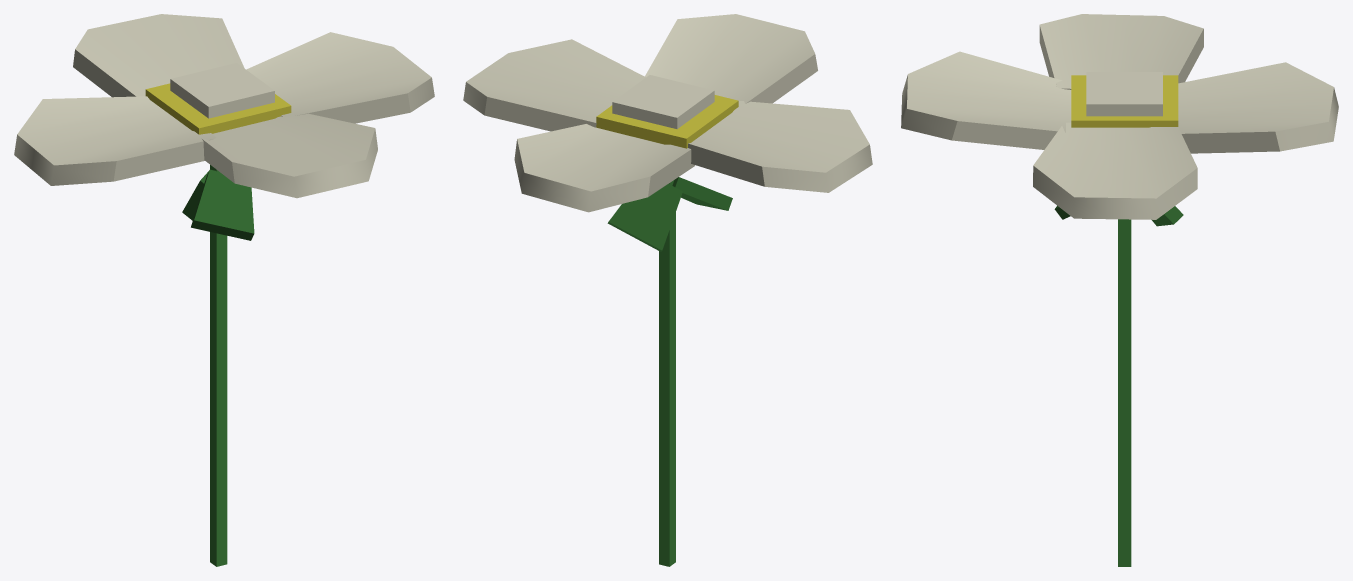
The model's file is Flower01.fbx.
3 views of the same model, side by side, from view 1: azimuth 30°, elevation 25°; view 2: azimuth 150°, elevation 25°; view 3: azimuth 270°, elevation 25° (orthographic). The views are drawn at different scales.
Visible parts, largest first — view 1: WhiteFlower; view 2: WhiteFlower; view 3: WhiteFlower.
Part boxes in pixels (x1,y1,x2,y2): WhiteFlower: (14, 14, 434, 566); WhiteFlower: (463, 14, 872, 566); WhiteFlower: (901, 14, 1338, 566).
Bounding box in the file's own units: 0.1508 × 0.1803 × 0.1493.
